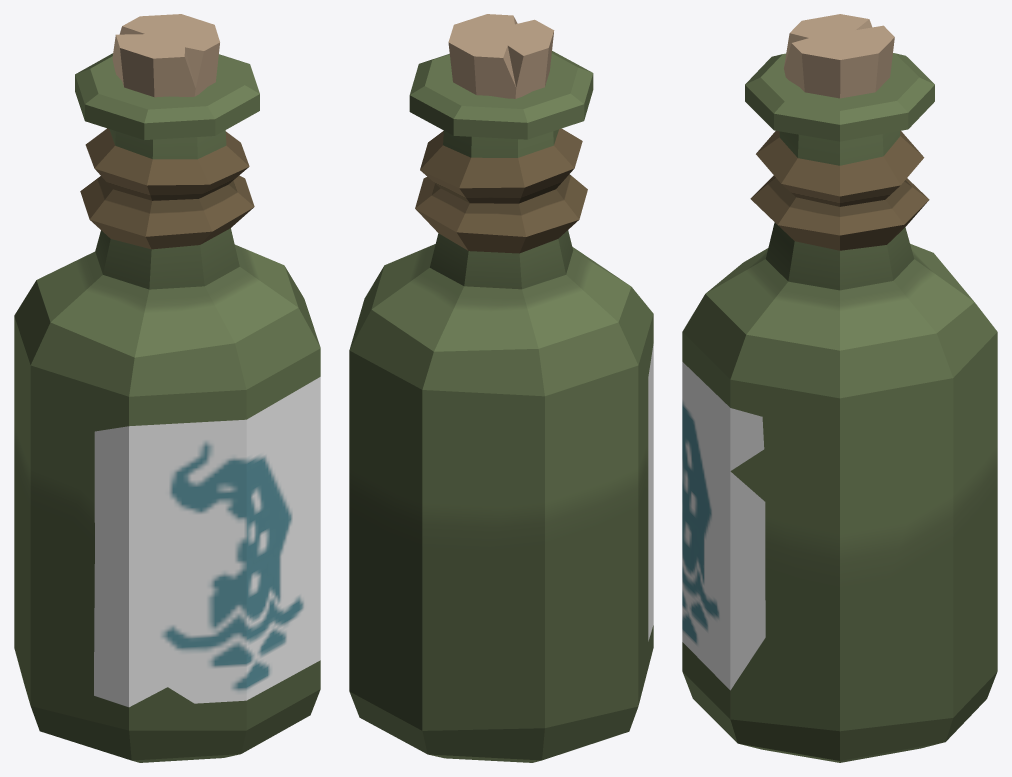
File: SM_Prop_Bottle_04.fbx
The picture shows the model from 3 angles, left to right: view 1: azimuth 30°, elevation 25°; view 2: azimuth 150°, elevation 25°; view 3: azimuth 270°, elevation 25°; orthographic projection.
Parts seen in each view (by area): view 1: SM_Prop_Bottle_04; view 2: SM_Prop_Bottle_04; view 3: SM_Prop_Bottle_04.
Part boxes in pixels (bbox=[...]): SM_Prop_Bottle_04: bbox=[14, 14, 320, 762]; SM_Prop_Bottle_04: bbox=[349, 14, 653, 762]; SM_Prop_Bottle_04: bbox=[682, 14, 997, 762].
Size of the model in its own units: 20.2 by 47.96 by 20.2.
